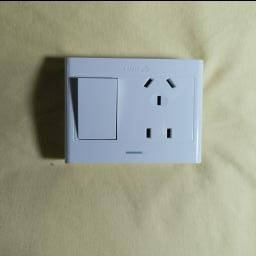outlet: (55, 56, 217, 159)
